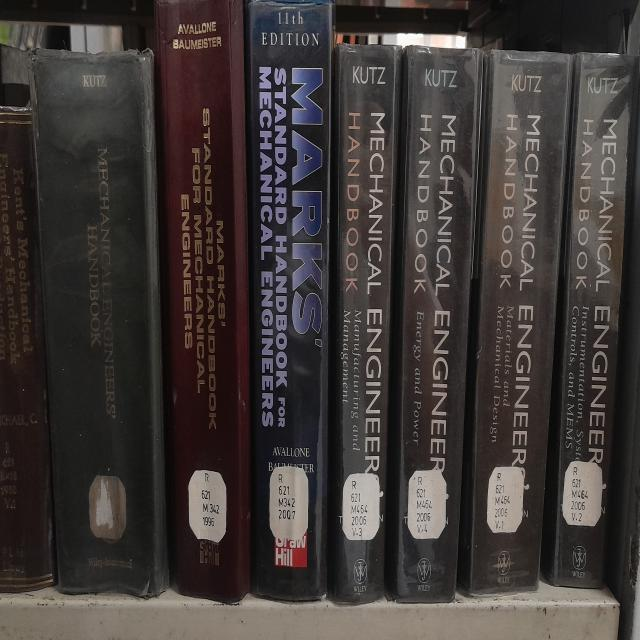book: (28, 50, 168, 596), (459, 50, 572, 594), (156, 0, 250, 601), (384, 46, 483, 601), (245, 0, 334, 598), (542, 54, 640, 587), (329, 45, 402, 602)
